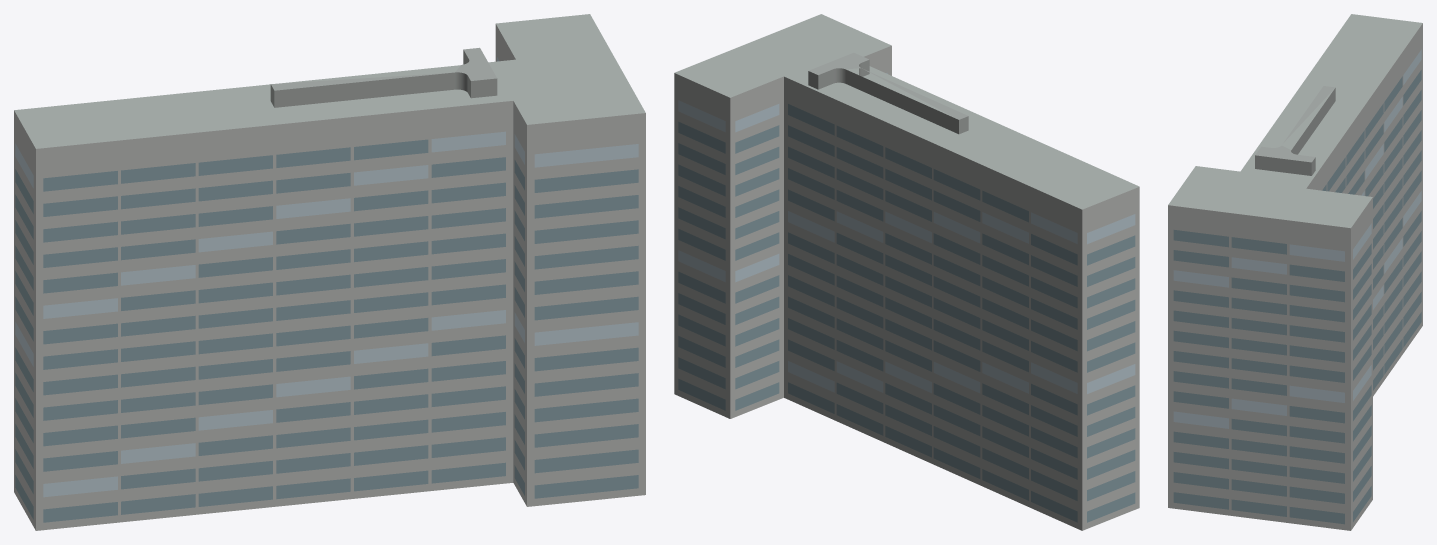
Rendered from fallback-olympic-park-foreon-203.glb.
The picture shows the model from 3 angles, left to right: view 1: azimuth 30°, elevation 25°; view 2: azimuth 150°, elevation 25°; view 3: azimuth 270°, elevation 25°; orthographic projection. The views are drawn at different scales.
Parts seen in each view (by area): view 1: fallback-olympic-park-foreon-203; view 2: fallback-olympic-park-foreon-203; view 3: fallback-olympic-park-foreon-203.
Boxes of the visible parts, x1,y1,x2,y2 form: fallback-olympic-park-foreon-203: [14, 14, 645, 530]; fallback-olympic-park-foreon-203: [674, 14, 1139, 530]; fallback-olympic-park-foreon-203: [1168, 14, 1422, 530].
Size of the model in its own units: 69.42 by 47.81 by 34.92.
